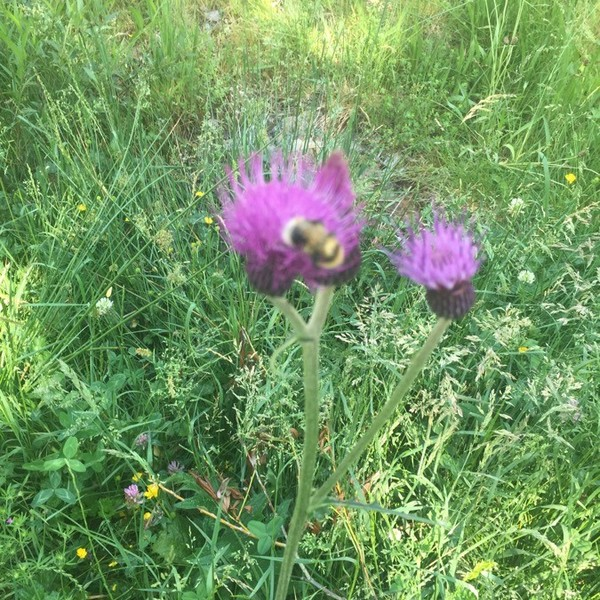obstacle: (46, 105, 584, 539)
